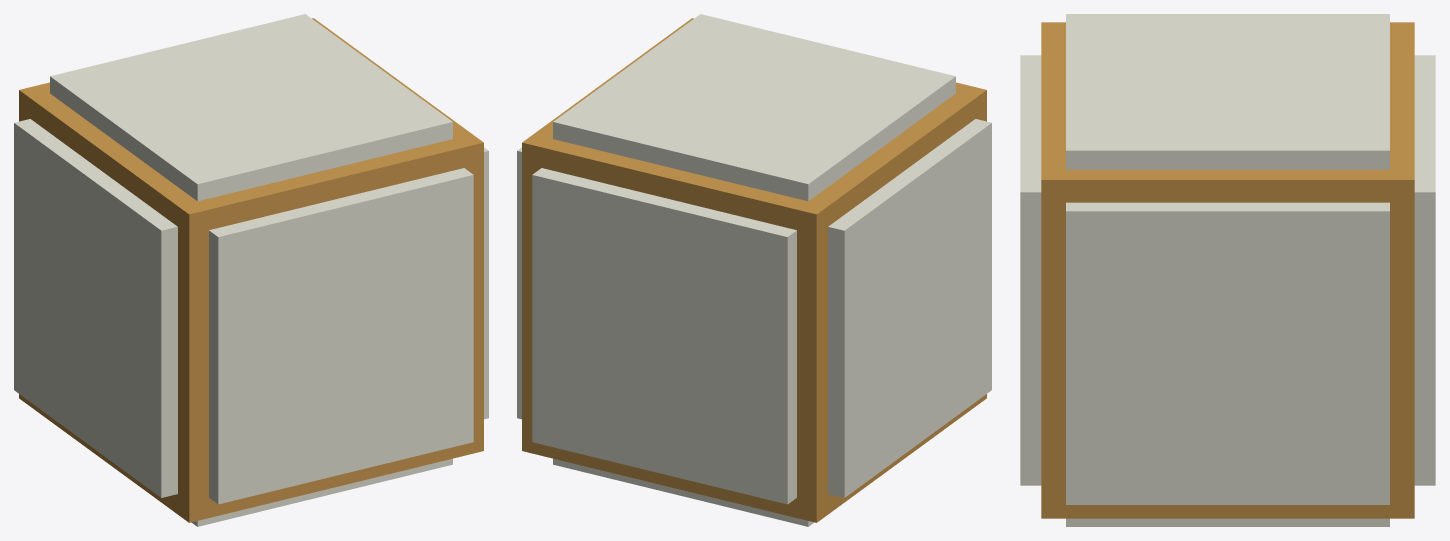
File: bog.obj
3 views of the same model, side by side, from view 1: azimuth 30°, elevation 25°; view 2: azimuth 150°, elevation 25°; view 3: azimuth 270°, elevation 25° (orthographic). The views are drawn at different scales.
Size of the model in its own units: 1 by 1 by 1.
